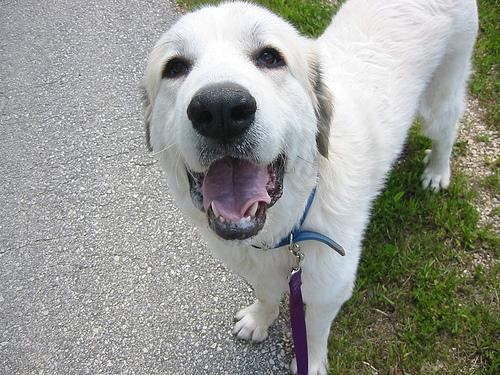Great_Pyrenees: (139, 2, 479, 374)
